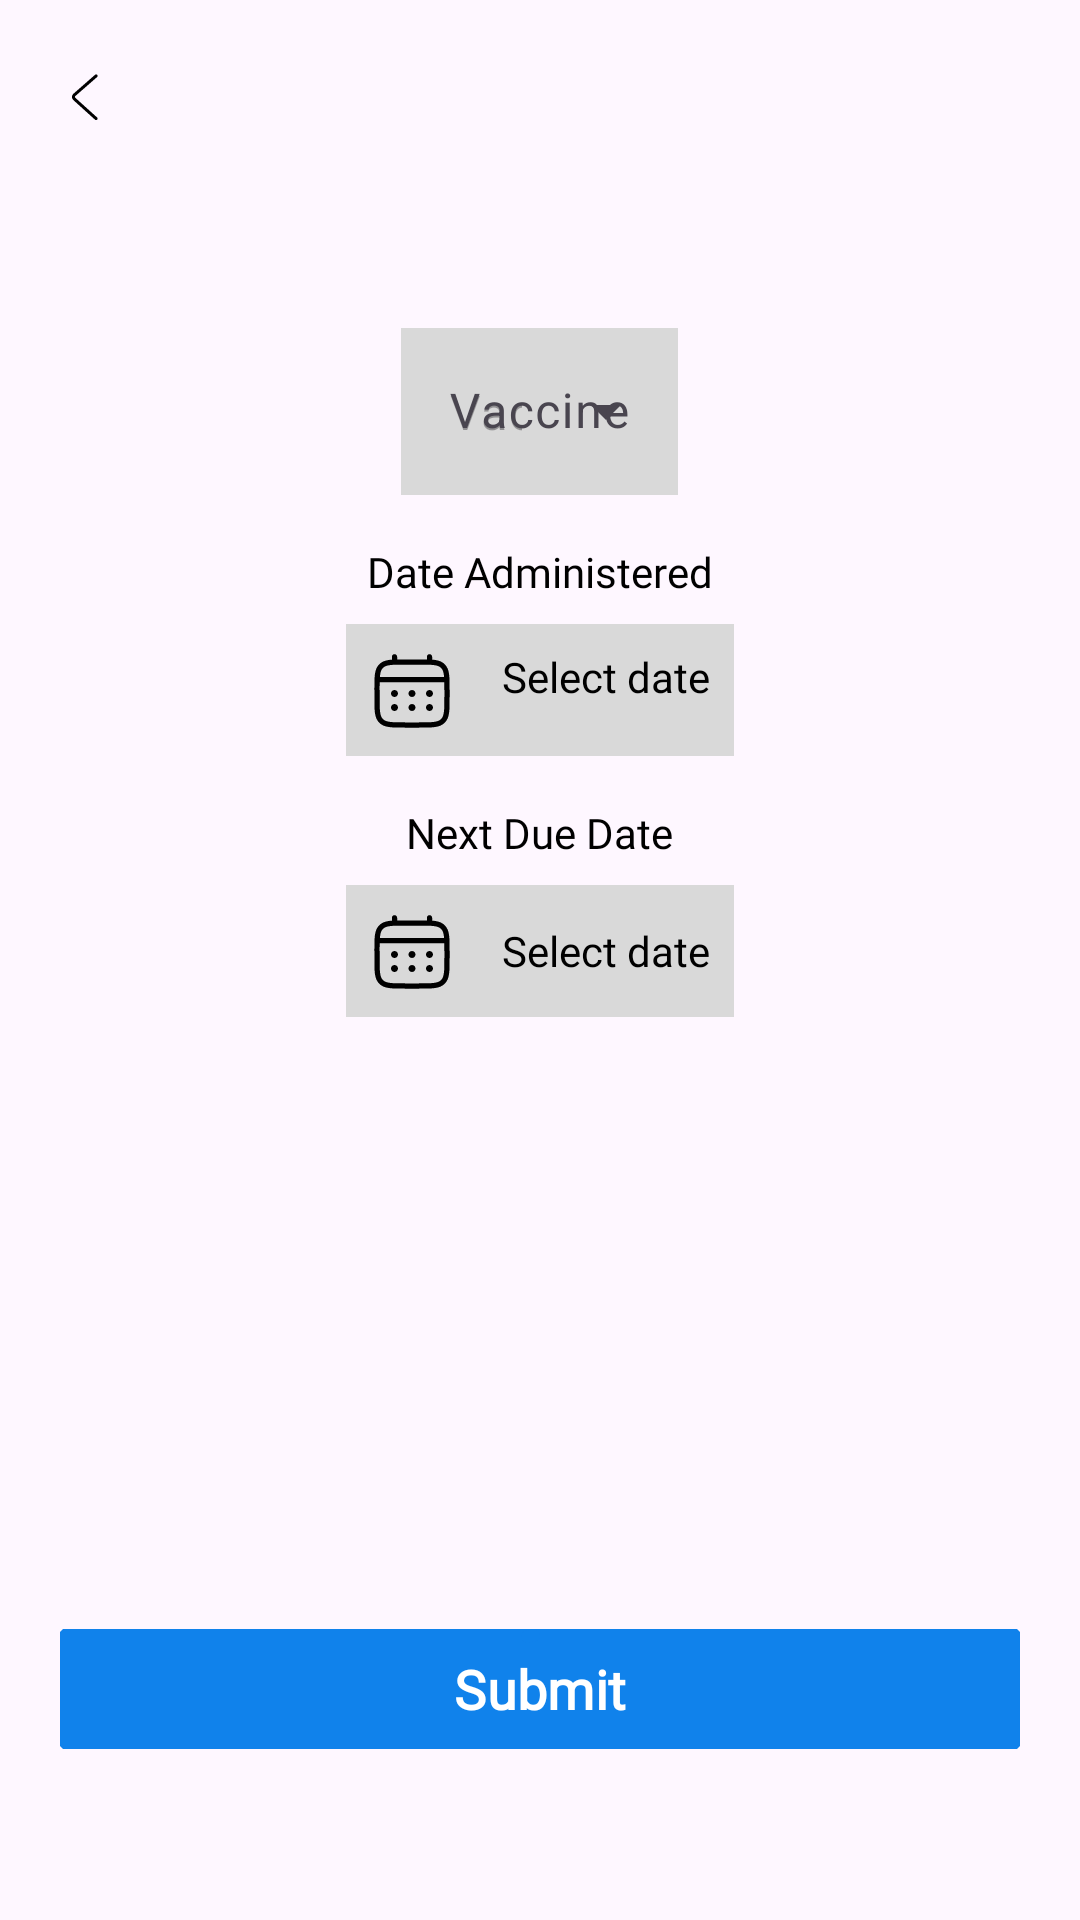

Where to tap for icons on this 1080x1920 app screen, as (x=x, y=y):
calendar: (x=412, y=690), (x=412, y=951)
